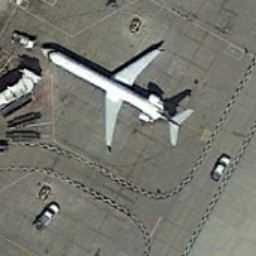Airplane: (30, 22, 199, 166)
